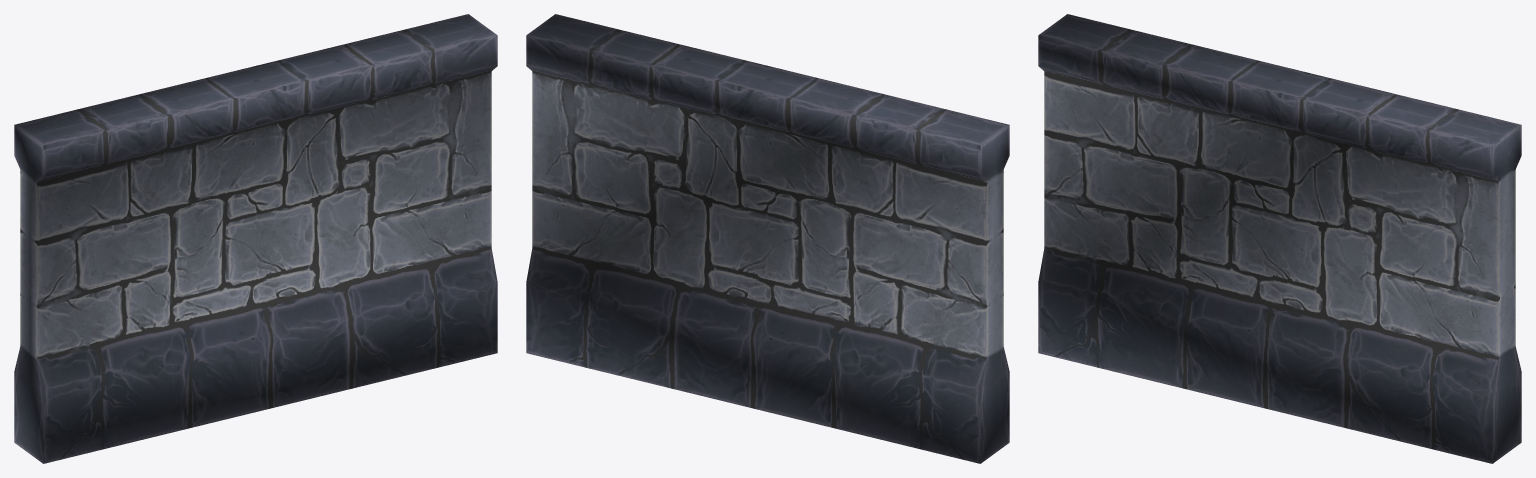
File: Wall.fbx
3 views of the same model, side by side, from view 1: azimuth 30°, elevation 25°; view 2: azimuth 150°, elevation 25°; view 3: azimuth 330°, elevation 25° (orthographic).
Visible parts, largest first — view 1: Cube.001; view 2: Cube.001; view 3: Cube.001.
Boxes of the visible parts, x1,y1,x2,y2 form: Cube.001: [14, 14, 497, 463]; Cube.001: [526, 14, 1009, 463]; Cube.001: [1038, 14, 1521, 463].
Bounding box in the file's own units: 200 × 134 × 22.25.
